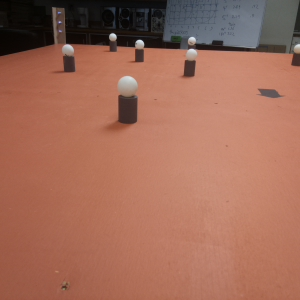obstacle: (115, 75, 139, 125), (184, 51, 197, 82), (63, 44, 75, 73), (291, 43, 300, 70), (135, 39, 145, 61), (110, 32, 118, 52), (188, 36, 198, 51)
